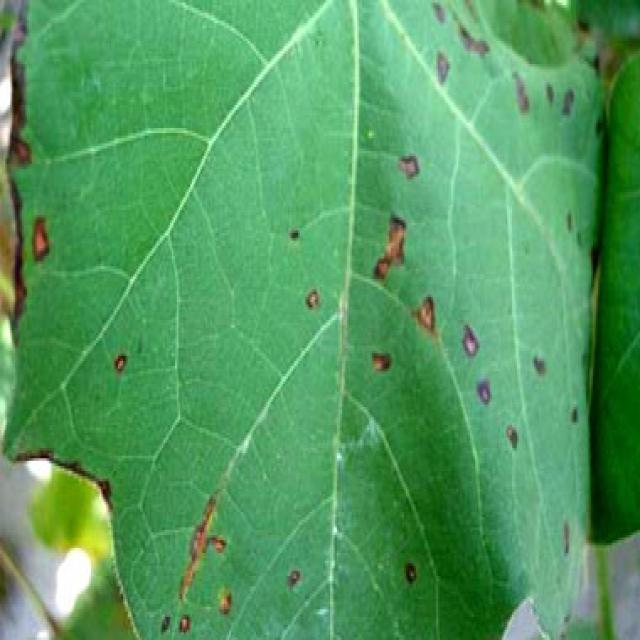Bacterial Blight: (364, 27, 590, 432)
